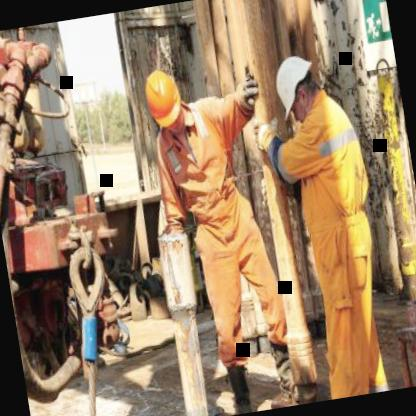helmet: (270, 49, 330, 126), (138, 63, 188, 139)
